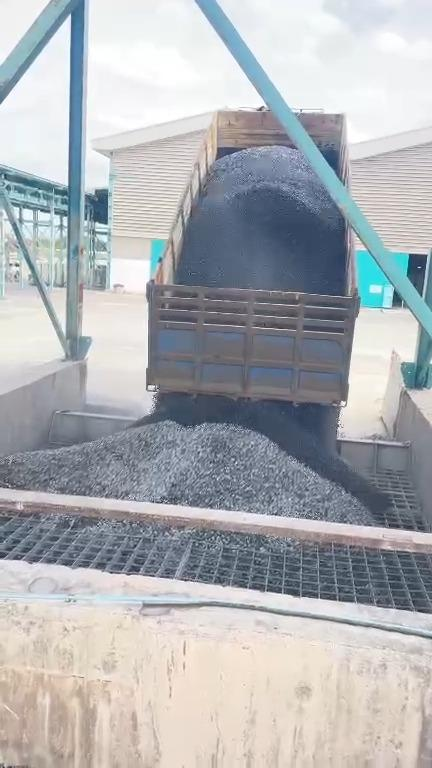gravel: (0, 395, 386, 524), (0, 421, 371, 521), (175, 147, 345, 294), (176, 146, 343, 294), (200, 531, 251, 547), (260, 538, 290, 549), (164, 531, 191, 538), (146, 526, 152, 534), (254, 537, 255, 546), (107, 523, 109, 524)
